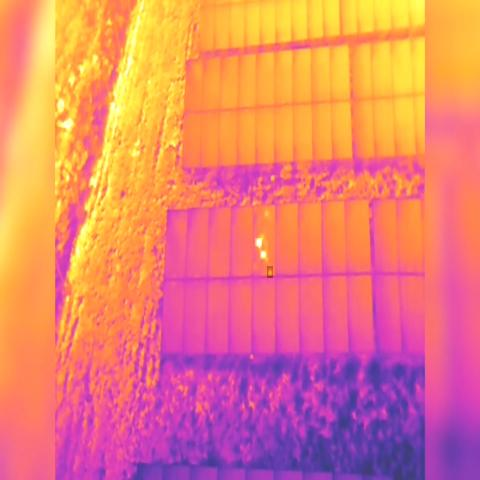fault: (259, 250, 267, 260), (267, 267, 273, 278), (255, 238, 262, 246)
